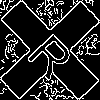R: (25, 25, 83, 82)
